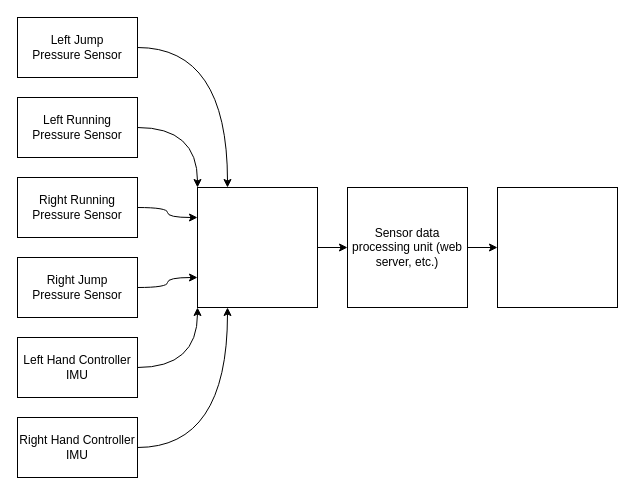
This 635x495 diagram has some shape labels left out. Each missing label, with the centre of its shape:
"n x ESP32(s)" belongs at (x=257, y=247).
"Videogame" belongs at (x=557, y=247).
